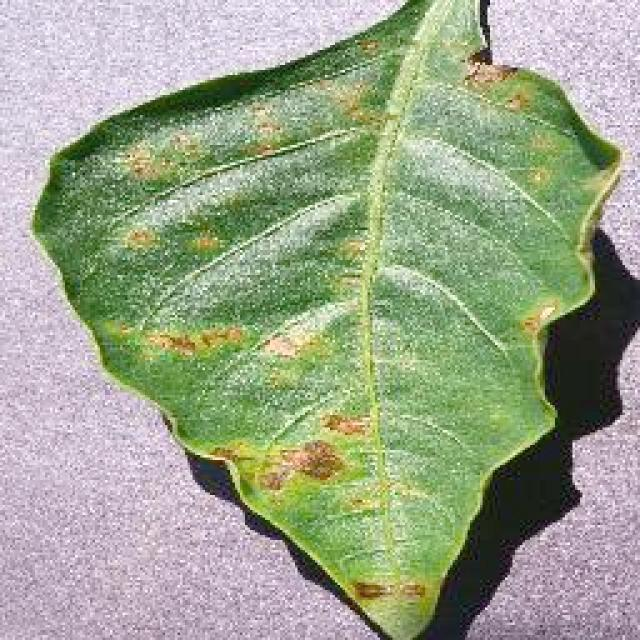Bercak Daun Serkospora: (27, 2, 625, 640)
